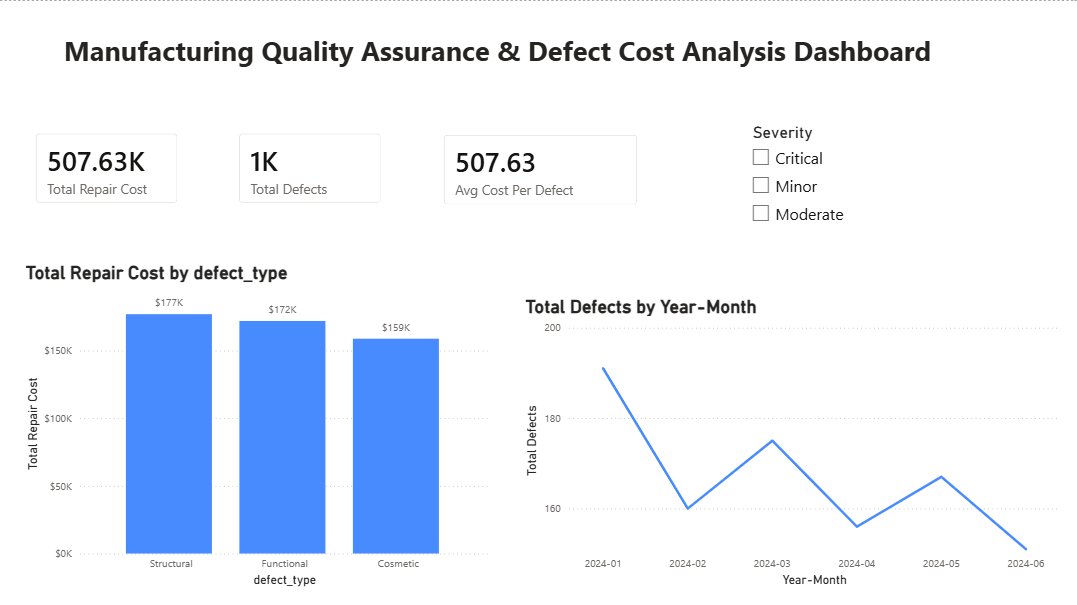

The page's visual inventory and layout, read from the dashboard file:
{"tool":"powerbi","page":{"name":"Page 1","canvas":[1280,720],"ordinal":0},"visuals":[{"type":"cardVisual","fields":{"Data":["cleaned_defects_data.Total Repair Cost"]},"box":[26.1,140,201.7,116.6],"z":0},{"type":"cardVisual","fields":{"Data":["cleaned_defects_data.Total Defects"]},"box":[266.9,140,201.7,116.6],"z":1000},{"type":"cardVisual","fields":{"Data":["cleaned_defects_data.Avg Cost Per Defect"]},"box":[507.7,141.3,262.1,116.6],"z":2000},{"type":"clusteredColumnChart","fields":{"Category":["cleaned_defects_data.defect_type"],"Y":["cleaned_defects_data.Total Repair Cost"]},"box":[26.2,290,557.5,407.5],"z":3000},{"type":"lineChart","fields":{"Category":["DimCalendar.Year-Month"],"Y":["cleaned_defects_data.Total Defects"]},"box":[616.1,348.5,640.8,348.5],"z":4000},{"type":"slicer","fields":{"Values":["cleaned_defects_data.severity"]},"box":[876.8,140,300.5,168.8],"z":5000},{"type":"textbox","box":[72,32,1088,58],"z":6000}]}

Visuals, with their boxes in screenshot pixels (x1, y1, x2, y2), scaled from the page's 1280x720 canvas onto the 1077x605 screenshot:
cardVisual - cleaned_defects_data.Total Repair Cost: {"x1": 22, "y1": 118, "x2": 192, "y2": 216}
cardVisual - cleaned_defects_data.Total Defects: {"x1": 225, "y1": 118, "x2": 394, "y2": 216}
cardVisual - cleaned_defects_data.Avg Cost Per Defect: {"x1": 427, "y1": 119, "x2": 648, "y2": 217}
clusteredColumnChart - cleaned_defects_data.defect_type x cleaned_defects_data.Total Repair Cost: {"x1": 22, "y1": 244, "x2": 491, "y2": 586}
lineChart - DimCalendar.Year-Month x cleaned_defects_data.Total Defects: {"x1": 518, "y1": 293, "x2": 1058, "y2": 586}
slicer - cleaned_defects_data.severity: {"x1": 738, "y1": 118, "x2": 991, "y2": 259}
textbox: {"x1": 61, "y1": 27, "x2": 976, "y2": 76}
